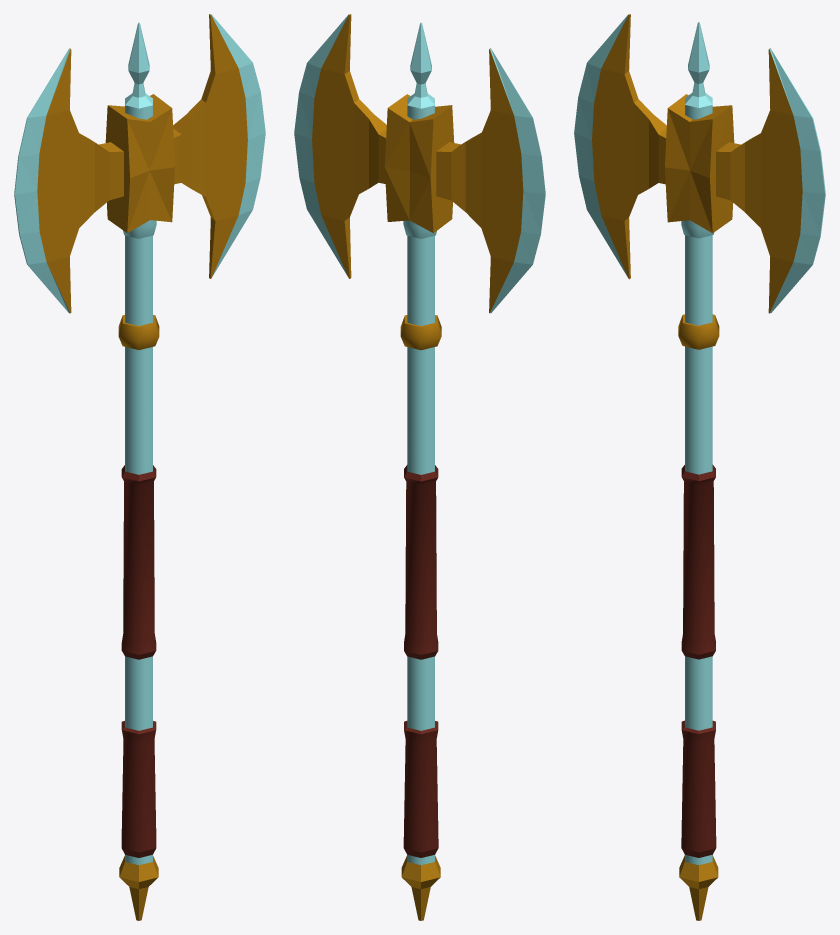
File: Axe1.fbx
3 renders of one model, left to right at view 1: azimuth 30°, elevation 25°; view 2: azimuth 150°, elevation 25°; view 3: azimuth 330°, elevation 25°, orthographic.
Parts seen in each view (by area): view 1: Axe1; view 2: Axe1; view 3: Axe1.
Boxes of the visible parts, x1,y1,x2,y2 form: Axe1: (14,14,265,920); Axe1: (294,14,545,920); Axe1: (574,14,825,920).
Bounding box in the file's own units: 0.645 × 2.2 × 0.1107.
